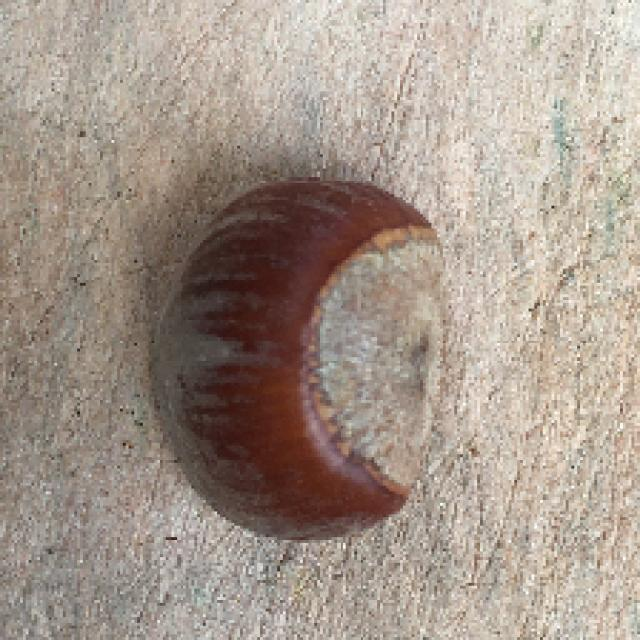QualityHazelnut: (152, 174, 448, 545)
